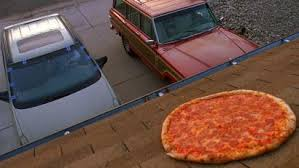pizza: (156, 98, 299, 164)
